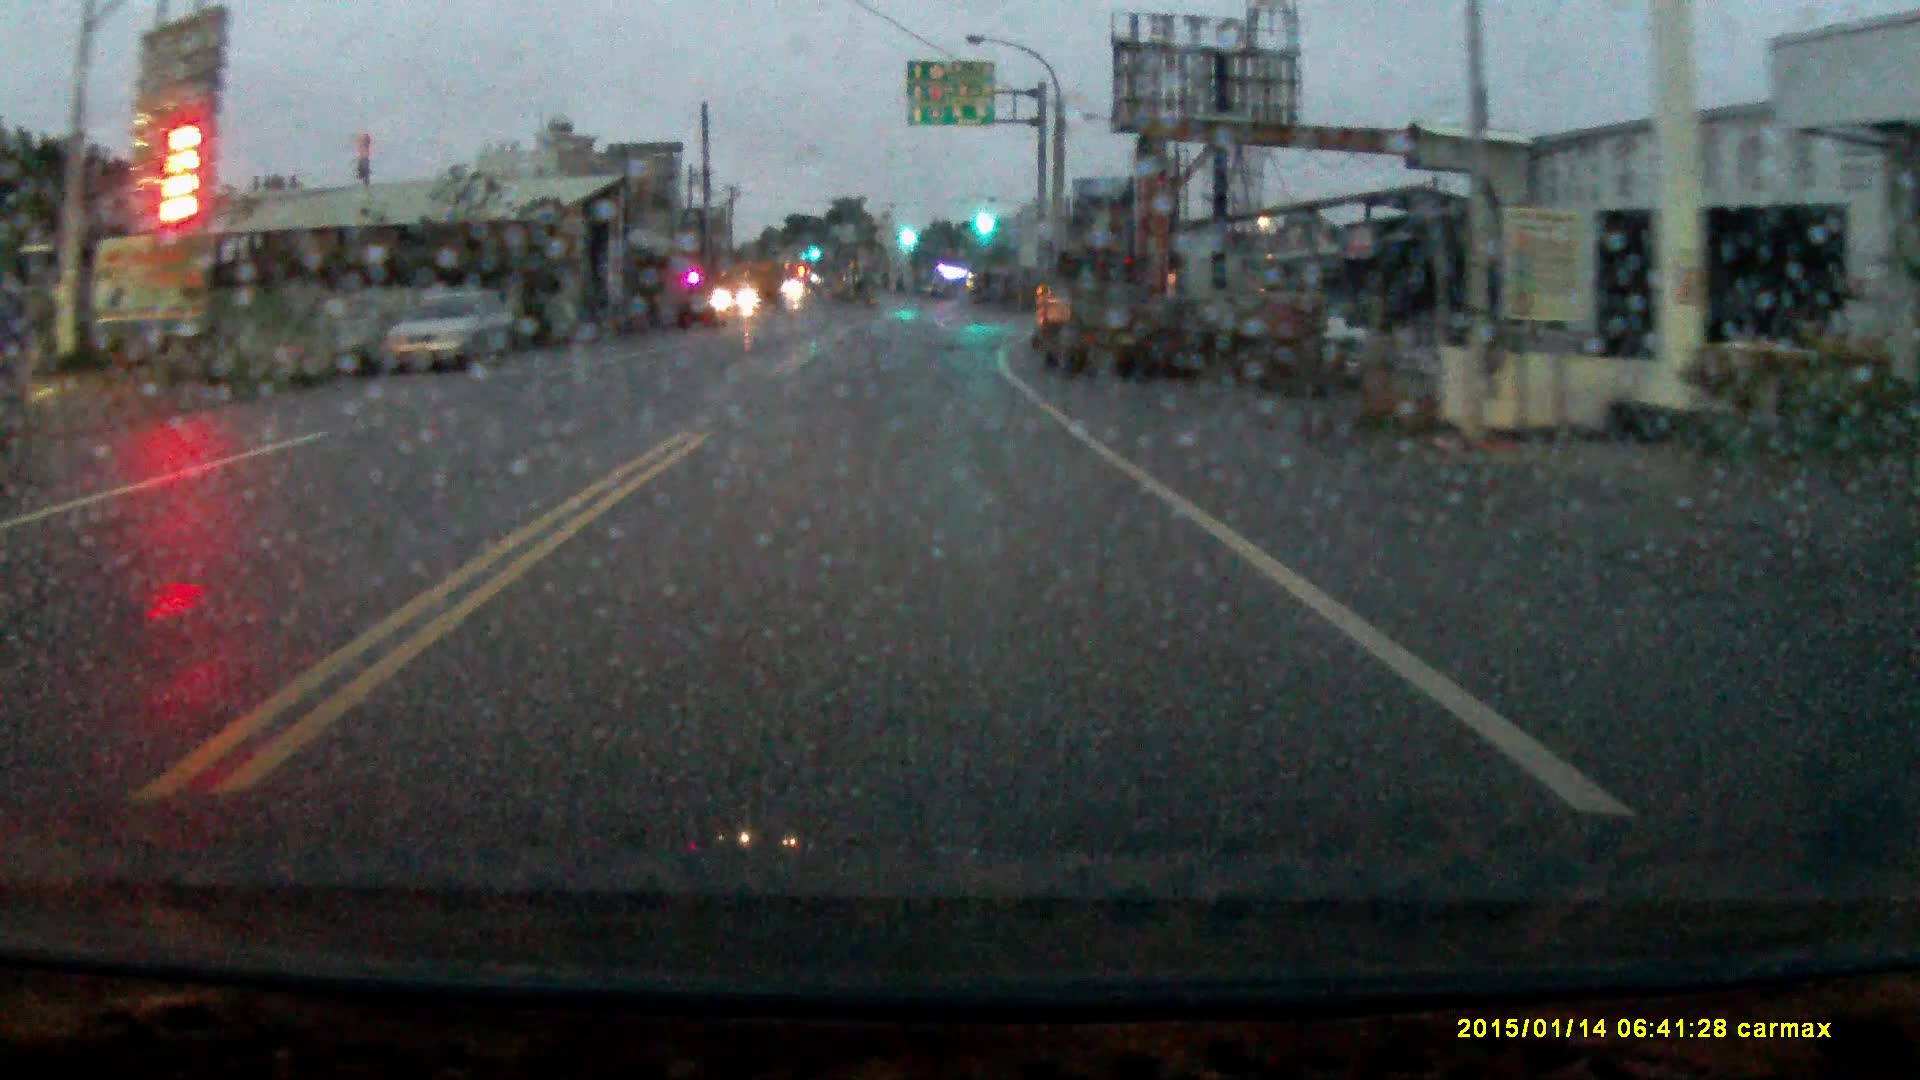rider: (1, 255, 43, 512)
vehicle: (1034, 255, 1163, 387), (378, 294, 518, 375), (709, 260, 783, 321)
